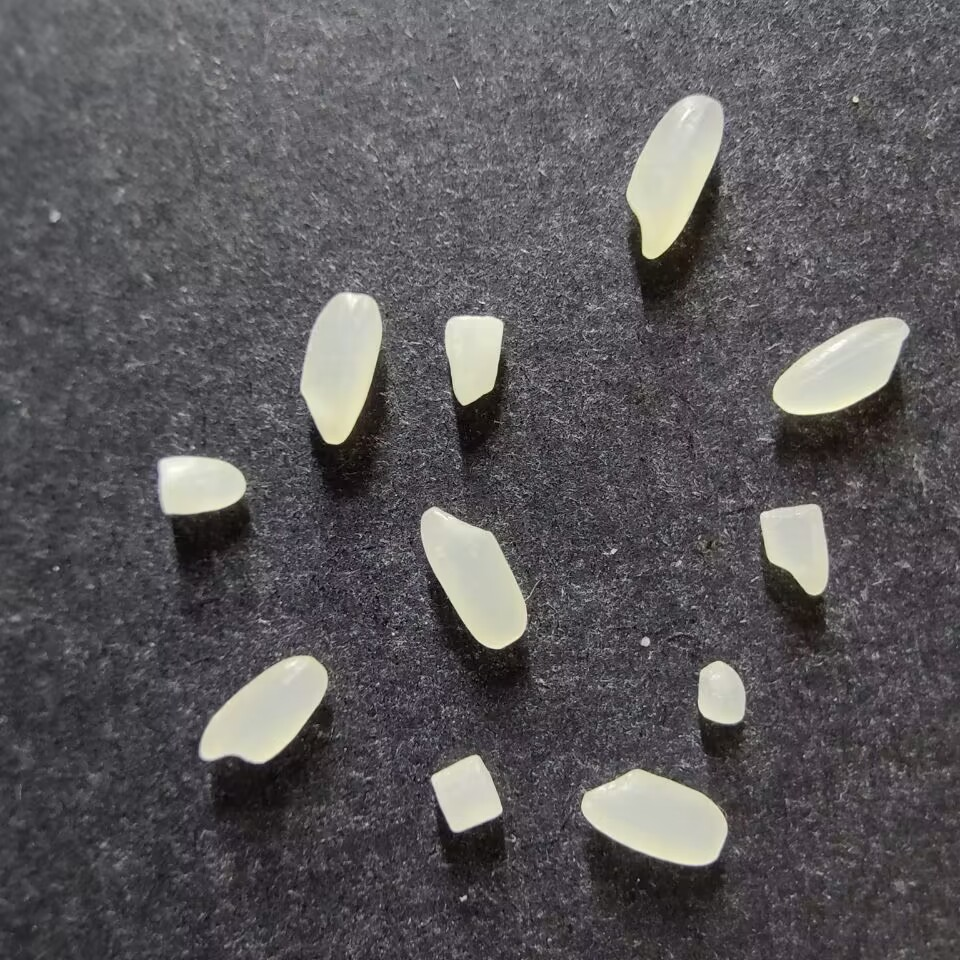broken: (759, 503, 829, 596), (430, 753, 503, 833), (443, 314, 503, 405), (156, 455, 246, 515), (696, 660, 745, 725)
rice: (625, 93, 723, 260), (419, 506, 527, 649), (580, 768, 727, 866), (198, 654, 328, 763), (771, 316, 909, 415), (298, 291, 382, 445)
